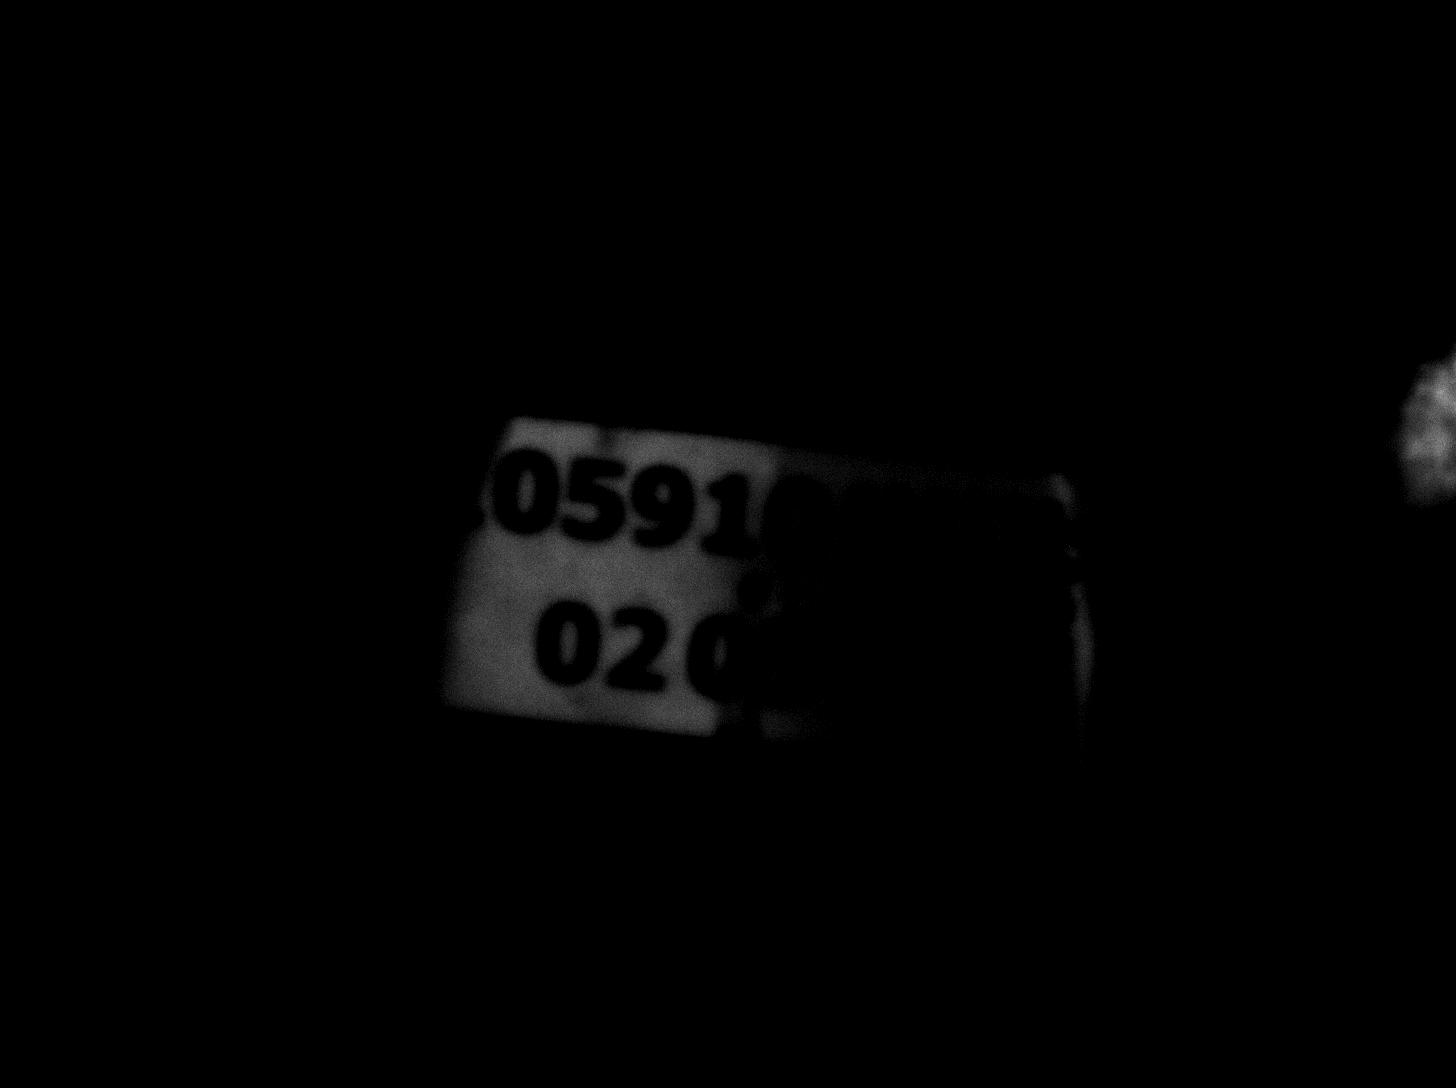data matrix: (818, 459, 1106, 758)
